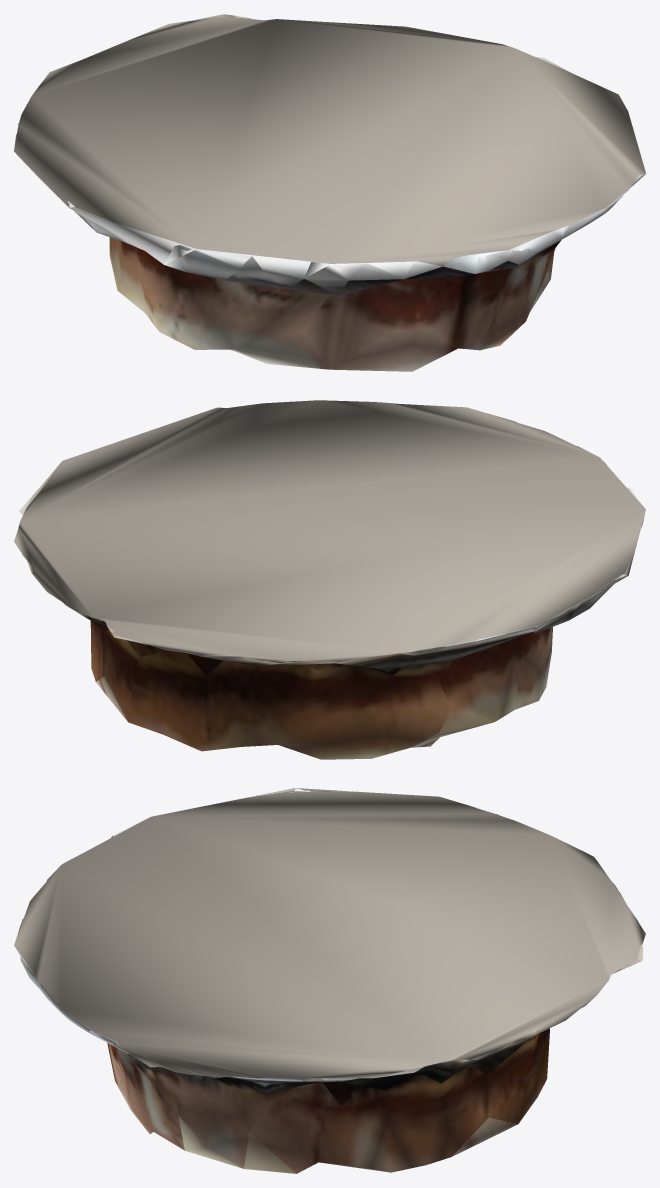
File: cake_622.obj
3 views of the same model, one above another, from view 1: azimuth 30°, elevation 25°; view 2: azimuth 150°, elevation 25°; view 3: azimuth 270°, elevation 25° (orthographic). The views are drawn at different scales.
Size of the model in its own units: 0.1789 by 0.0534 by 0.178.
1 material, 1 textured.
